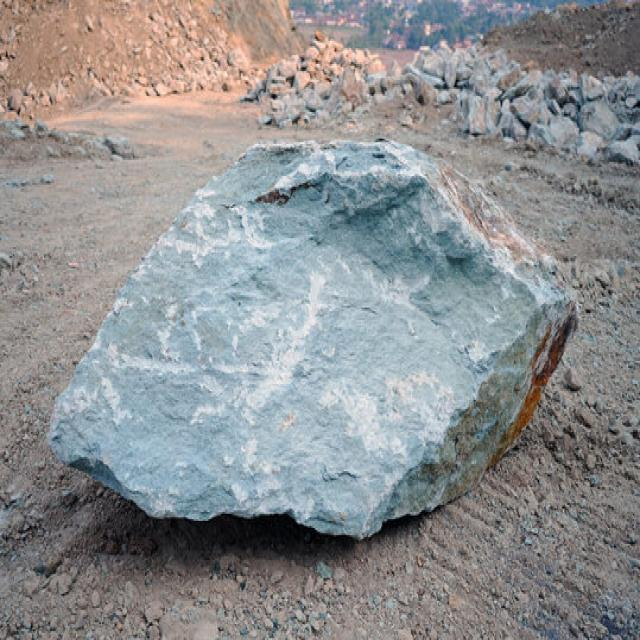red-sand: (3, 89, 639, 635)
rocks: (241, 39, 639, 164)
stone: (49, 140, 576, 537)
